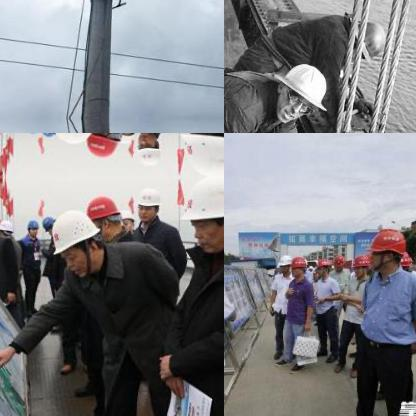Helmet: (258, 51, 333, 132), (49, 210, 101, 274), (181, 176, 223, 252), (340, 15, 388, 59), (181, 133, 223, 175), (85, 190, 123, 235), (366, 226, 404, 270), (133, 182, 161, 224), (85, 133, 124, 160), (133, 133, 162, 168), (119, 204, 137, 231), (48, 133, 103, 141), (350, 251, 368, 275), (40, 213, 56, 235), (0, 215, 13, 239), (396, 248, 410, 270), (314, 256, 330, 275), (25, 217, 39, 237), (289, 255, 303, 275), (119, 133, 138, 147), (276, 254, 290, 272), (331, 252, 345, 270), (40, 133, 57, 138)
